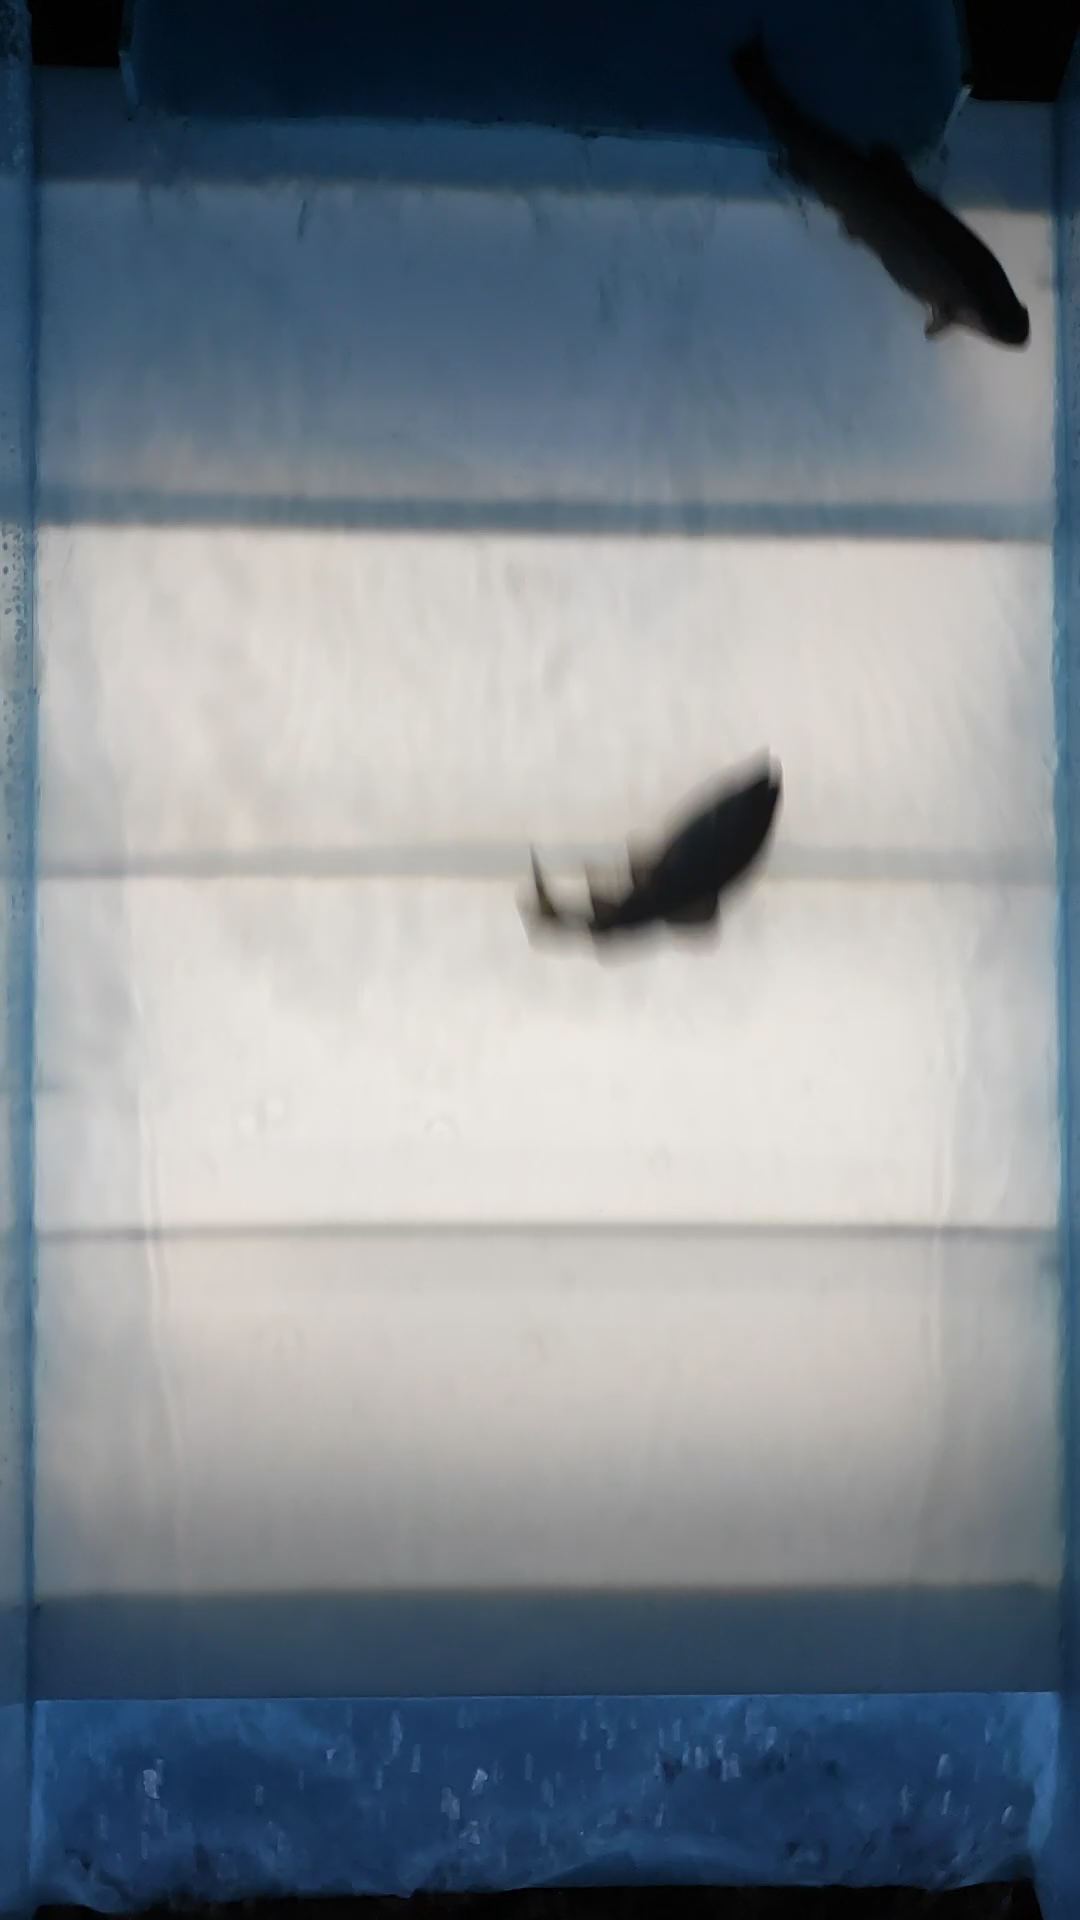fish: (731, 33, 1034, 356), (522, 765, 785, 951)
